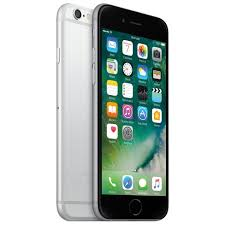iphone6: (53, 1, 173, 223), (88, 1, 171, 222)
